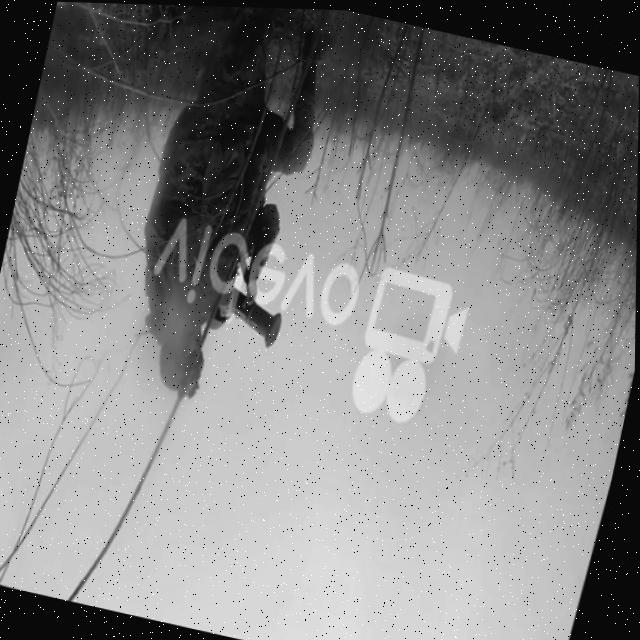rocket: (215, 270, 291, 349)
